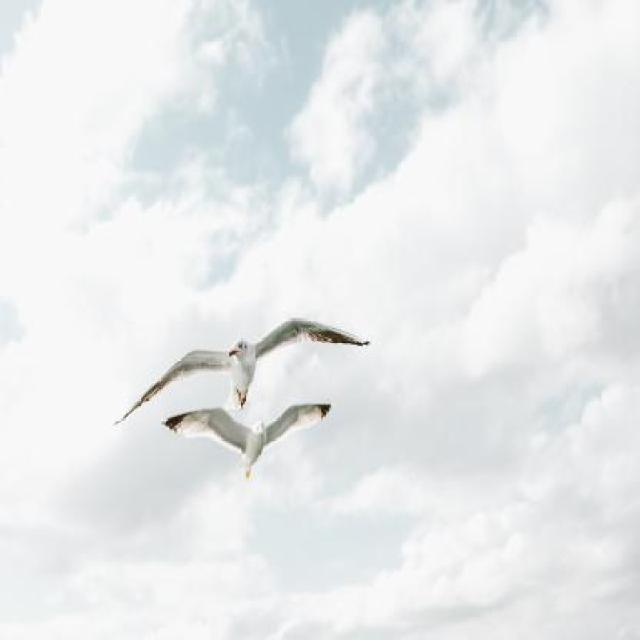bird: (116, 316, 370, 427), (164, 404, 333, 484)
